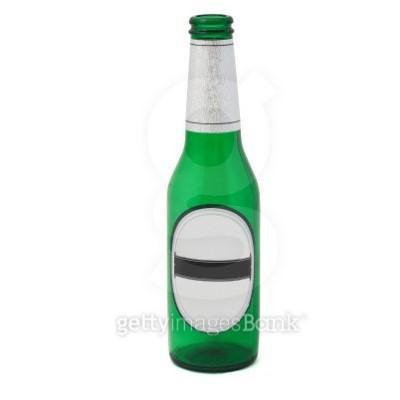beer: (161, 11, 264, 371)
